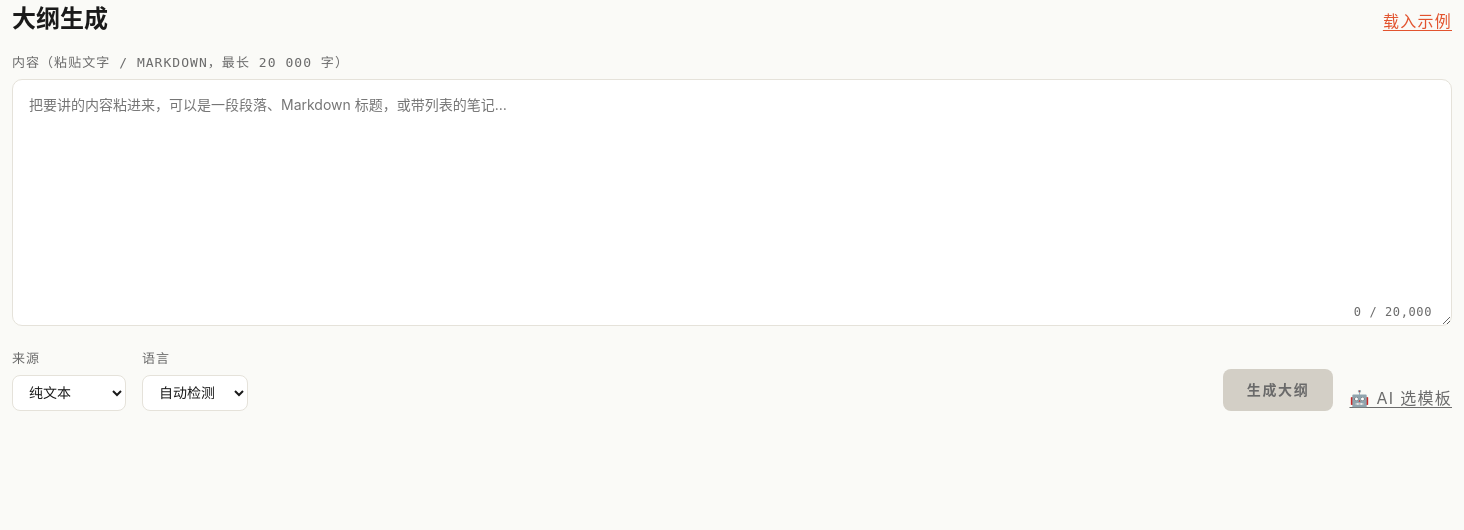
Test: OutlineForm › renders error message when API fails
The image size is (1464, 530).
Type "x" into the text box labelled "内容（粘贴文字 / Markdown，最长 20 000 字） 0 / 20,000" at (732, 203), box [12,79,1452,326]
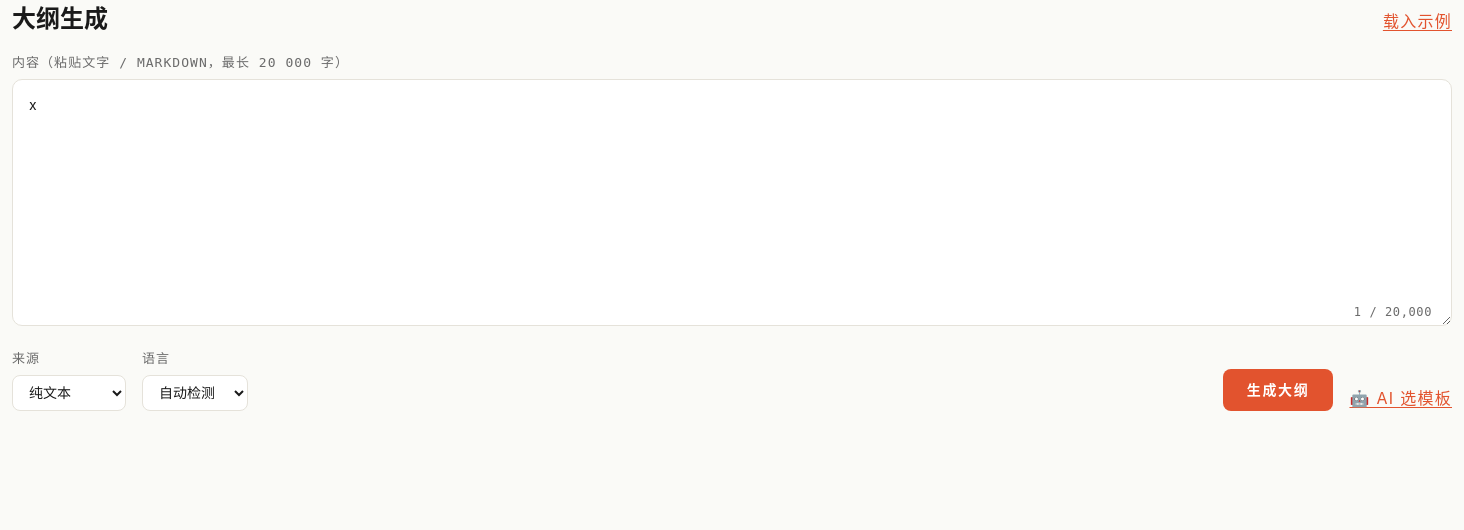
Click the button "生成大纲" at (1278, 390), box [1223,370,1333,411]
Wait 1200 ms
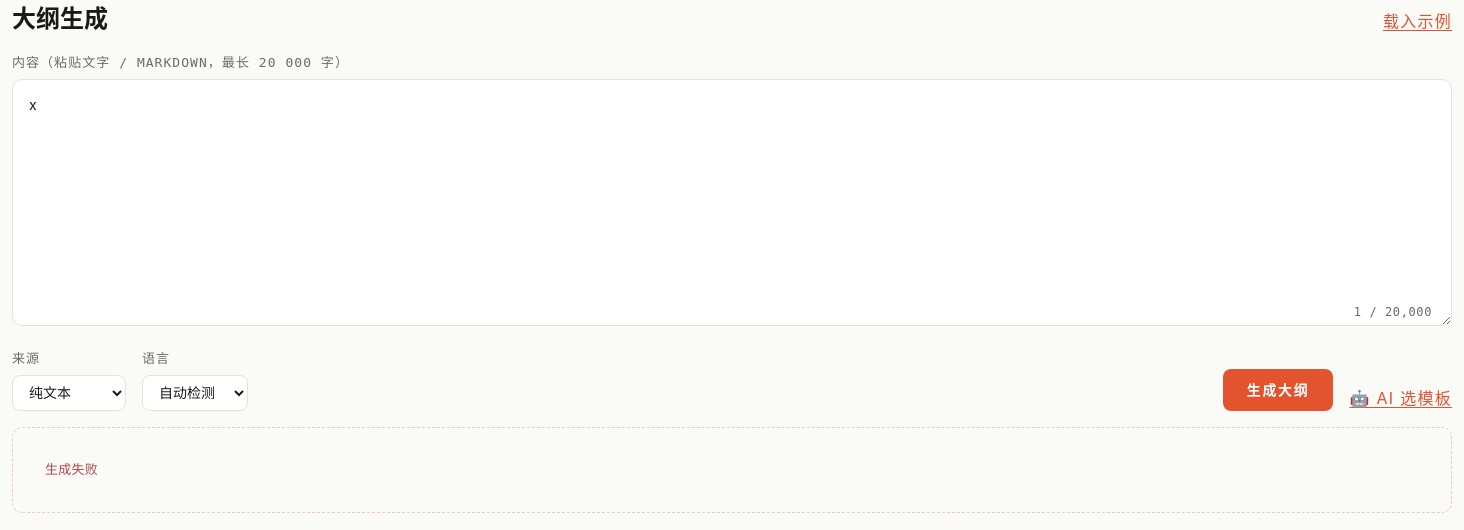
Expected: the message "生成失败" is shown, [12,427,1452,513]
Expected: the message with class "err" reads "生成失败", [45,462,98,477]
